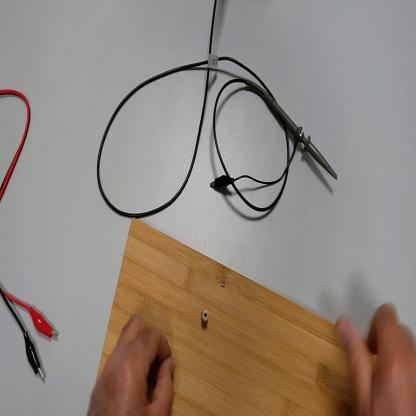hand: (334, 302, 416, 413), (88, 313, 177, 415)
oscilloscope probe tip: (244, 81, 338, 179)
working area: (97, 219, 381, 416)
